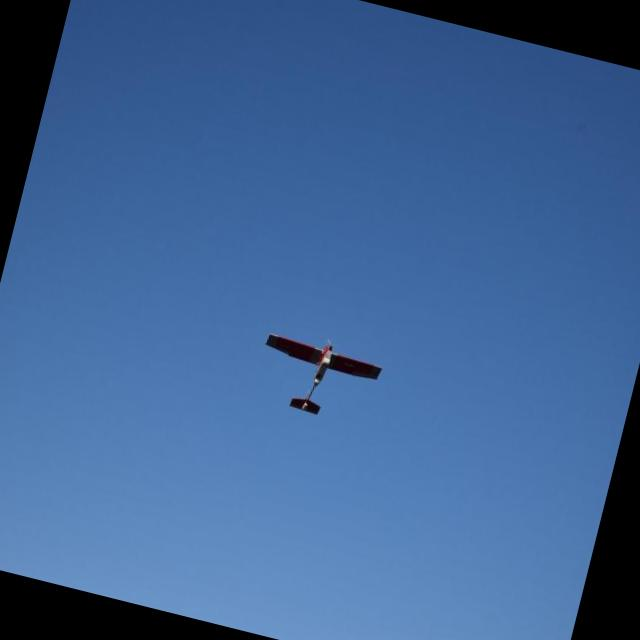UAV: (236, 311, 422, 483)
